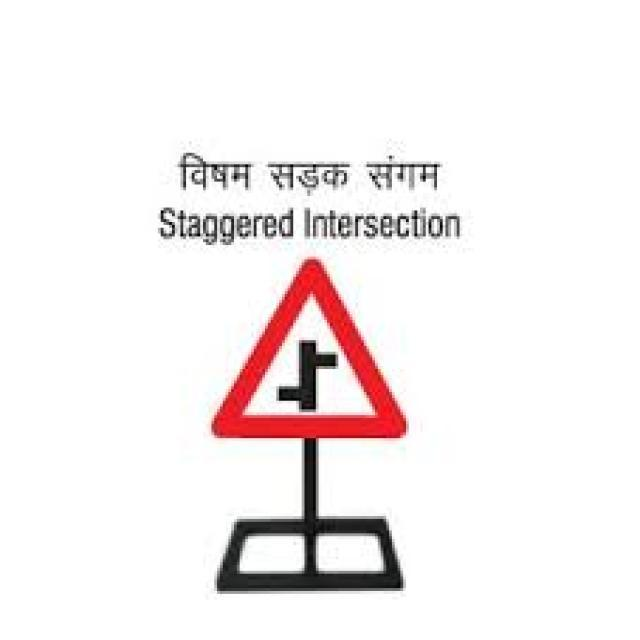staggered intersection: (210, 251, 406, 435)
